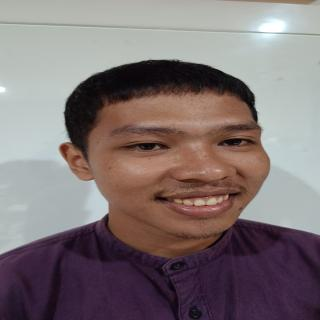Senang: (88, 88, 282, 246)
